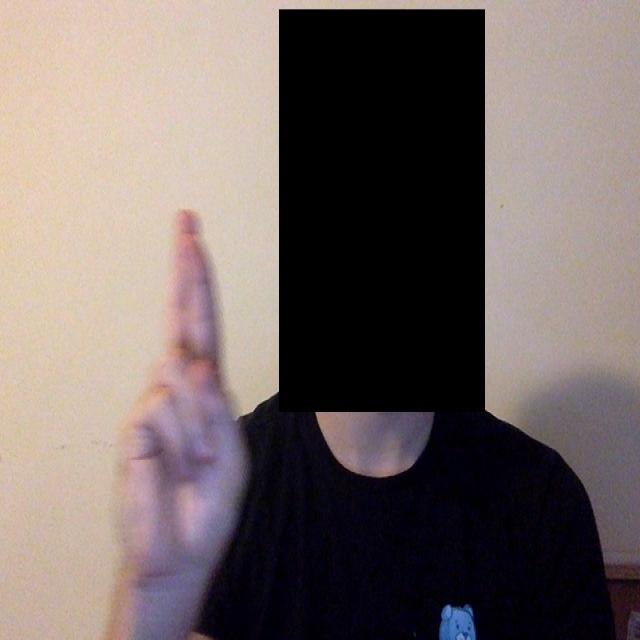R: (97, 168, 270, 607)
